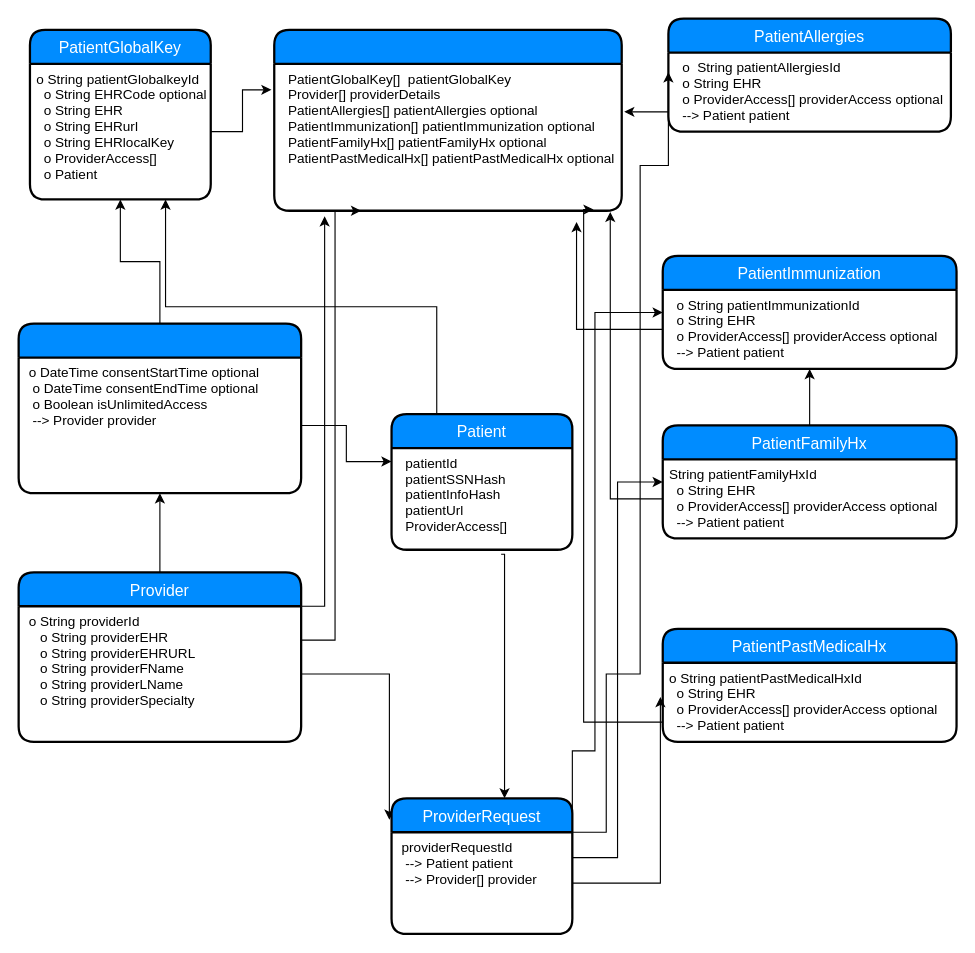
The diagram is 975 pixels wide and 953 high, and some of its shapes have lost their labels. Each missing label, with the box of its shape:
PatientInformation: (273, 28, 622, 211)
ProviderAccess: (17, 322, 302, 494)
